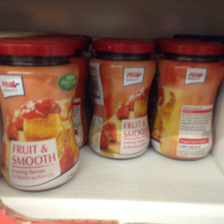jam: (1, 37, 81, 194), (152, 40, 223, 160), (89, 37, 156, 161)
